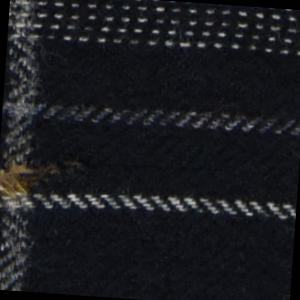Oil Stain: (1, 155, 63, 206)
